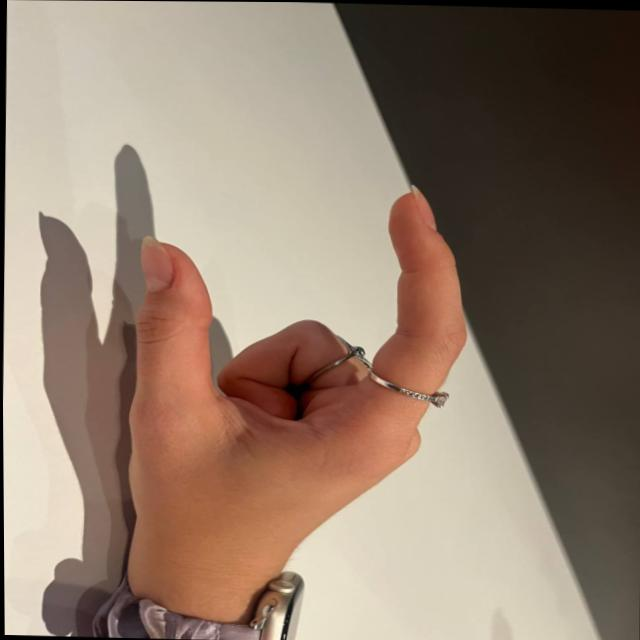uh: (108, 168, 483, 578)
